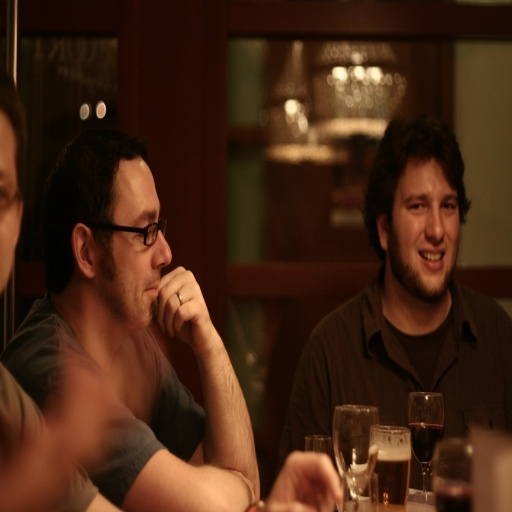hand: (57, 288, 151, 455), (145, 265, 218, 376), (264, 449, 344, 511)
